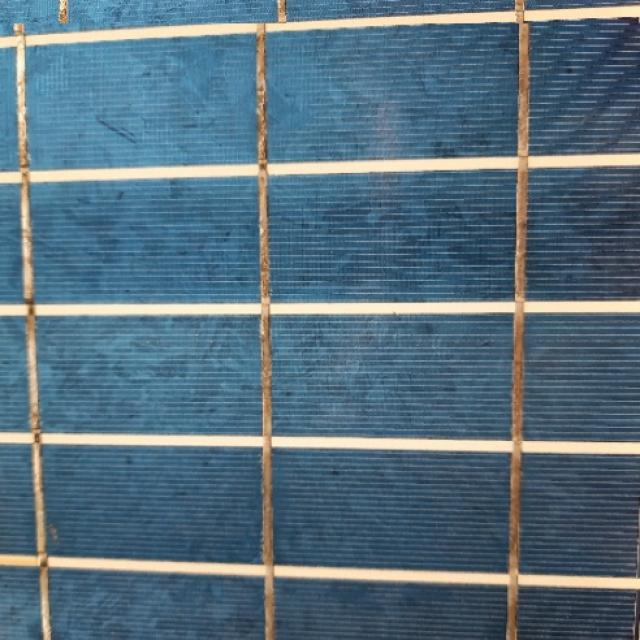Clean: (0, 23, 640, 640)
